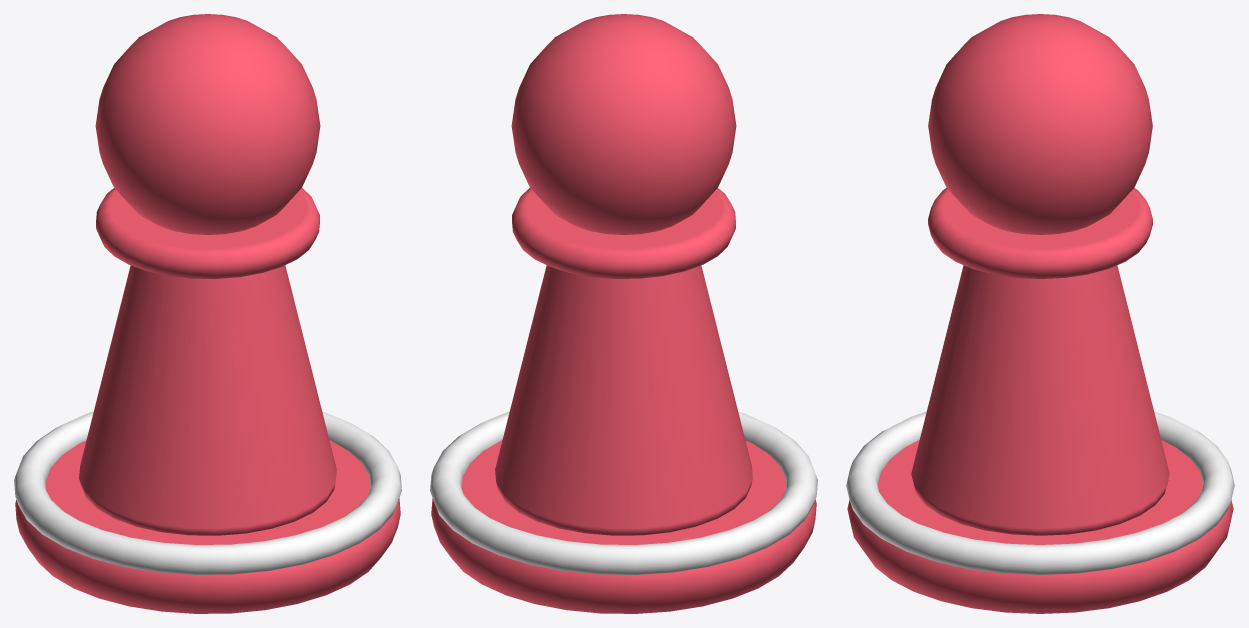
Rendered from pawn.glb.
3 renders of one model, left to right at view 1: azimuth 30°, elevation 25°; view 2: azimuth 150°, elevation 25°; view 3: azimuth 270°, elevation 25°, orthographic.
Visible parts, largest first — view 1: Cone; view 2: Cone; view 3: Cone.
Boxes of the visible parts, <box> form: Cone: <box>14,14,401,613</box>; Cone: <box>430,14,817,613</box>; Cone: <box>846,14,1234,613</box>.
Bounding box in the file's own units: 0.294 × 0.435 × 0.294.
